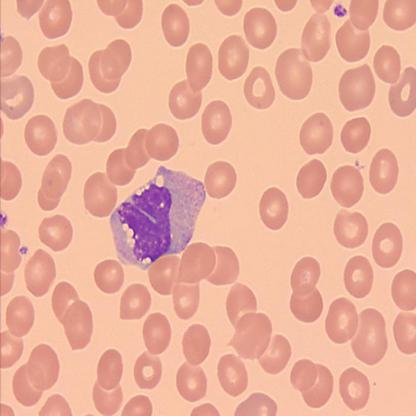Monocyte: (107, 162, 208, 274)
